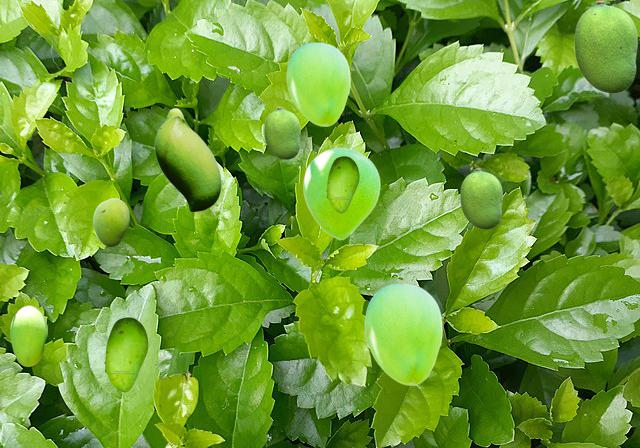green_mango: (364, 283, 441, 384), (303, 147, 379, 239), (154, 115, 220, 211), (574, 0, 636, 92), (286, 42, 349, 125), (104, 317, 147, 391), (460, 168, 501, 228), (10, 305, 46, 365), (326, 156, 358, 212), (264, 107, 299, 158), (93, 198, 128, 245), (165, 108, 183, 120)
